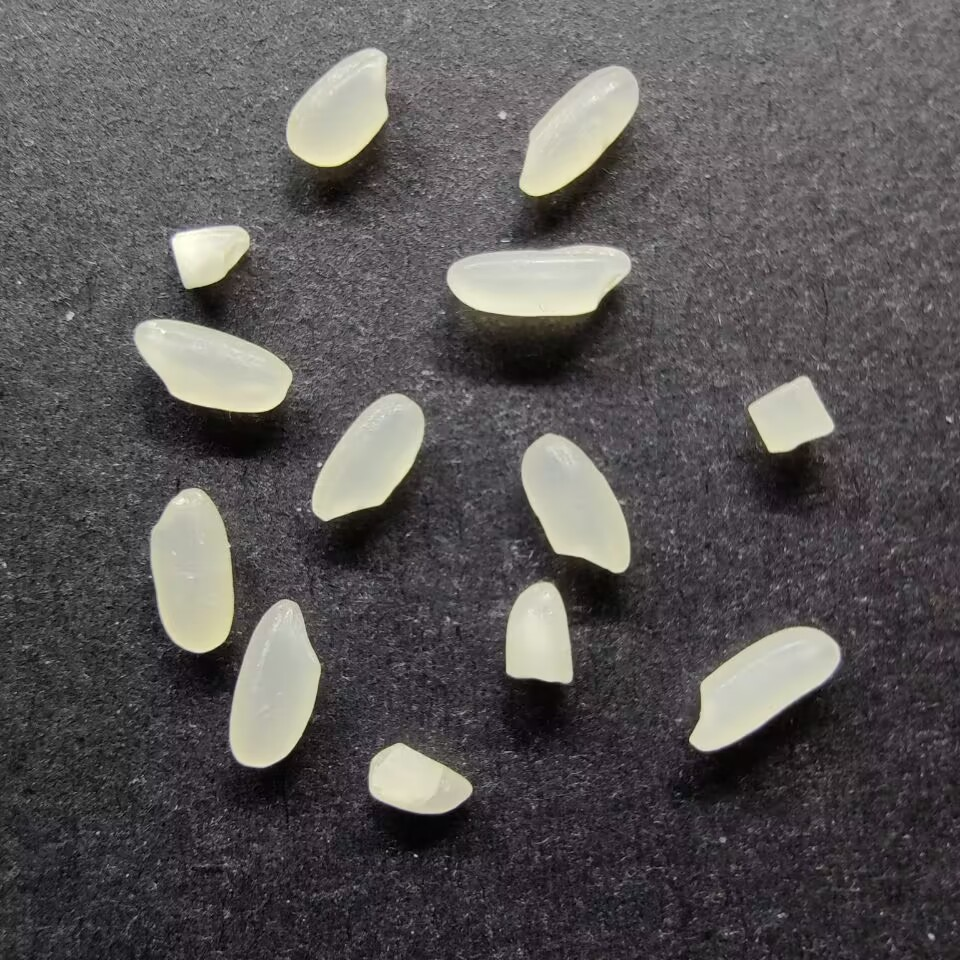broken: (367, 740, 474, 816), (501, 579, 576, 684), (745, 375, 836, 453), (170, 224, 250, 293)
rice: (688, 624, 843, 752), (225, 599, 322, 769), (518, 431, 633, 574), (516, 64, 639, 196), (130, 318, 293, 413), (309, 392, 423, 521), (148, 486, 235, 654), (447, 241, 630, 319), (284, 46, 390, 169)
